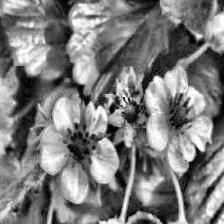Blossom Blight: (60, 120, 99, 172), (165, 92, 197, 137), (117, 89, 145, 128)
